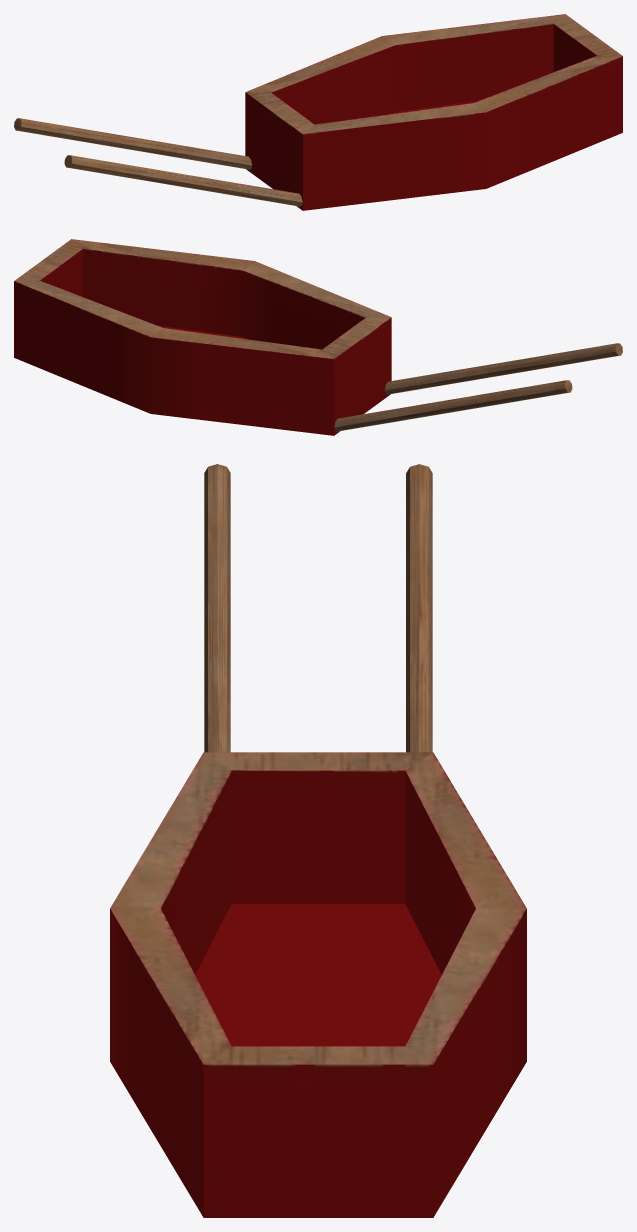
Rendered from sled4.gltf.
3 views of the same model, one above another, from view 1: azimuth 30°, elevation 25°; view 2: azimuth 150°, elevation 25°; view 3: azimuth 270°, elevation 25° (orthographic). The views are drawn at different scales.
Parts seen in each view (by area): view 1: sled.002, pCylinder1.002, pCylinder2.002; view 2: sled.002, pCylinder2.002, pCylinder1.002; view 3: sled.002, pCylinder1.002, pCylinder2.002.
Part boxes in pixels (<box>): sled.002: <box>245,14,622,210</box>; pCylinder1.002: <box>64,155,302,206</box>; pCylinder2.002: <box>14,118,251,169</box>; sled.002: <box>14,239,391,435</box>; pCylinder2.002: <box>334,380,572,431</box>; pCylinder1.002: <box>385,343,622,394</box>; sled.002: <box>110,752,526,1217</box>; pCylinder1.002: <box>204,464,230,752</box>; pCylinder2.002: <box>406,464,432,752</box>.
Bounding box in the file's own units: 0.1427 × 0.0288 × 0.0465.
Materials: 4 (4 with a texture image).
